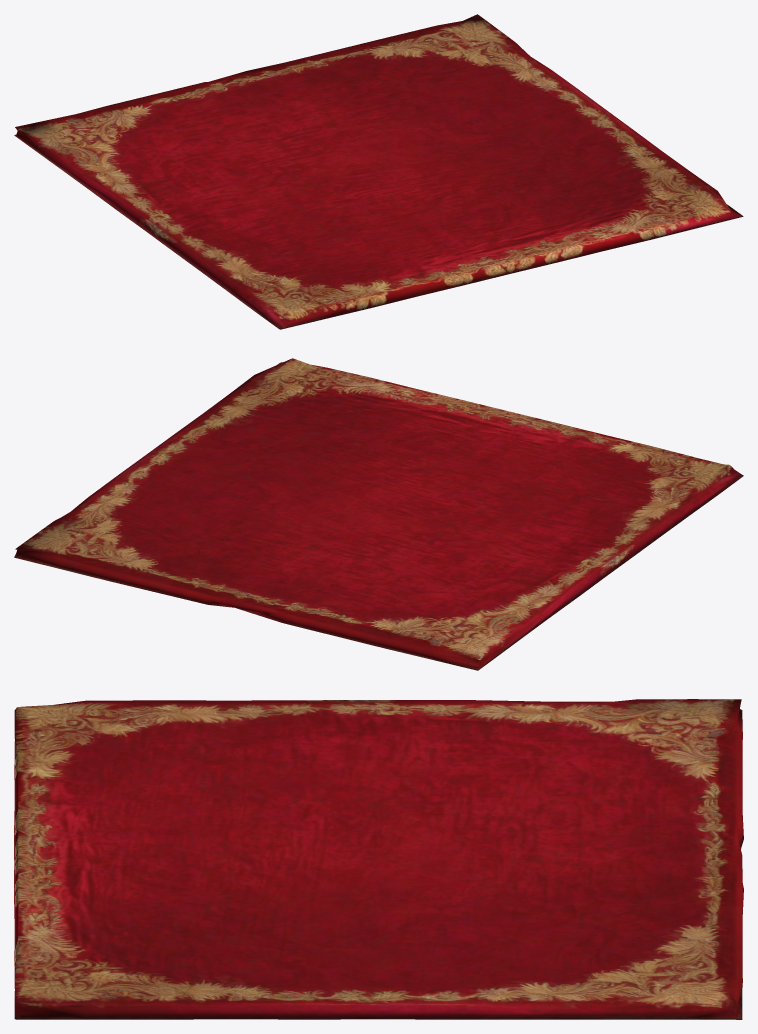
Rendered from Meshy_AI_Generate_a_luxurious__0224030145_texture.glb.
The picture shows the model from 3 angles, top to bottom: view 1: azimuth 30°, elevation 25°; view 2: azimuth 150°, elevation 25°; view 3: azimuth 270°, elevation 25°; orthographic projection. The views are drawn at different scales.
Bounding box in the file's own units: 2 × 0.0384 × 1.99.
1 material, 1 textured.
